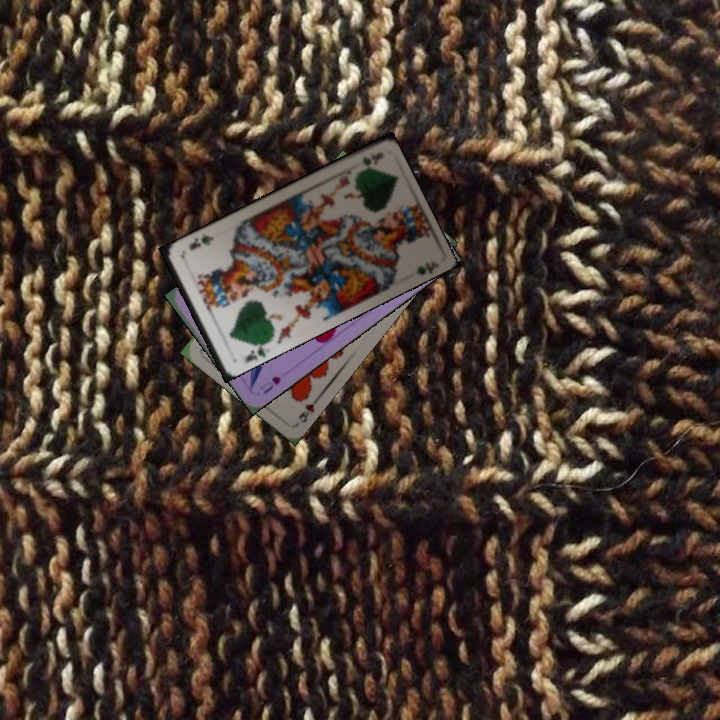GK: (241, 338, 269, 365), (357, 150, 378, 169)
H9: (294, 392, 323, 426)
HU: (256, 372, 283, 396)
